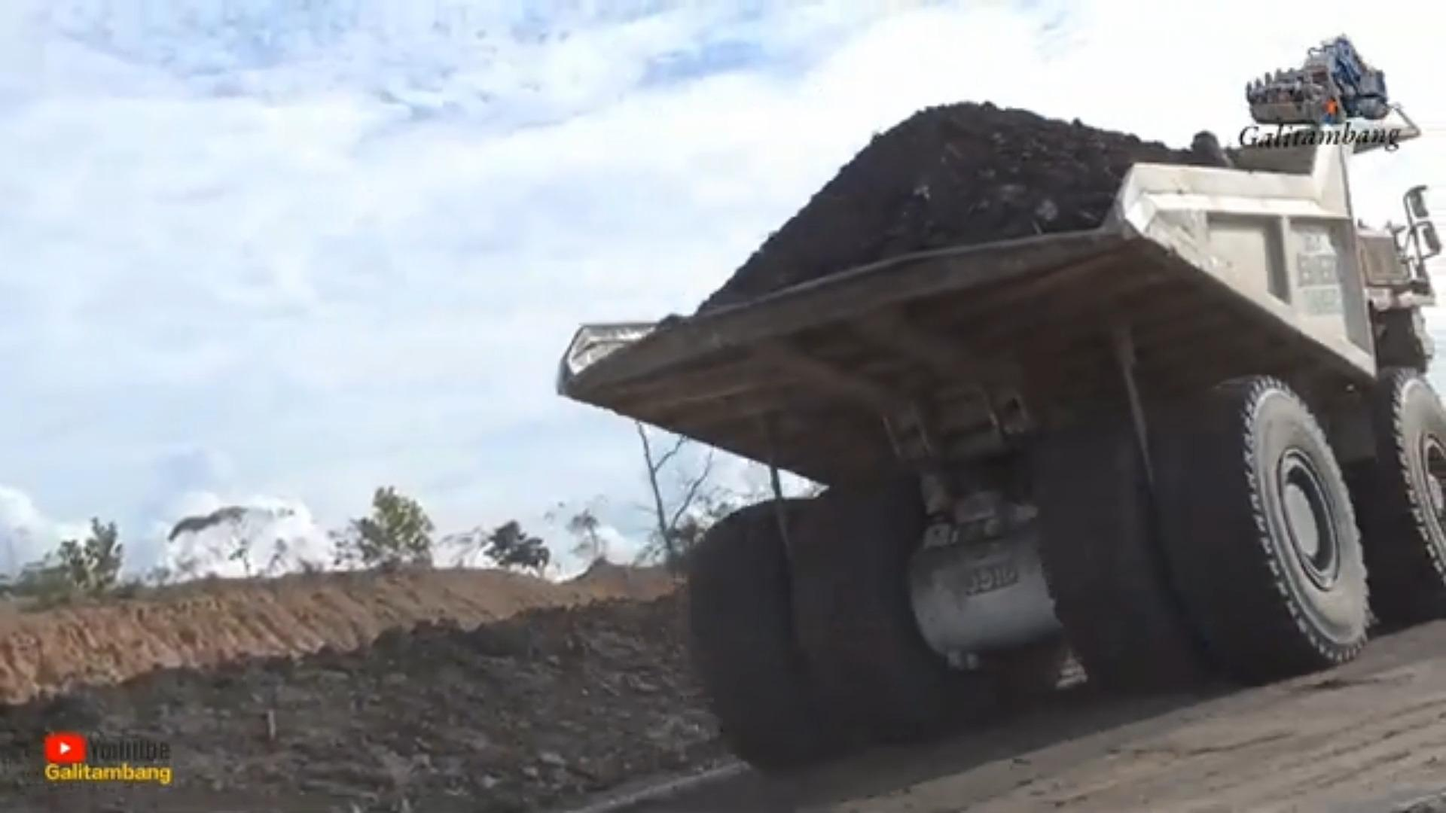HD-Truck: (557, 44, 1445, 770)
